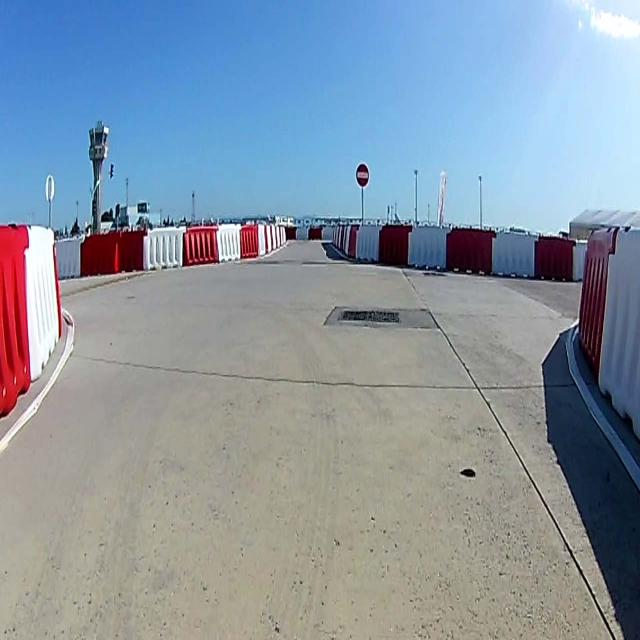girisyok: (355, 164, 369, 188)
